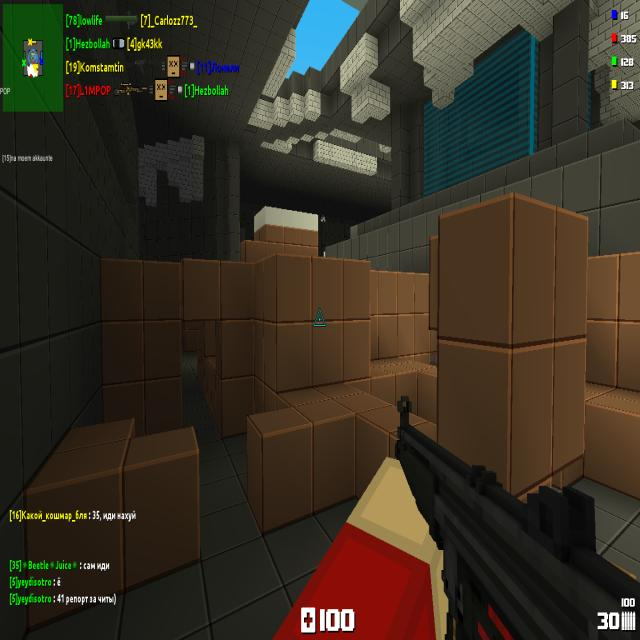enemy: (319, 214, 326, 222)
